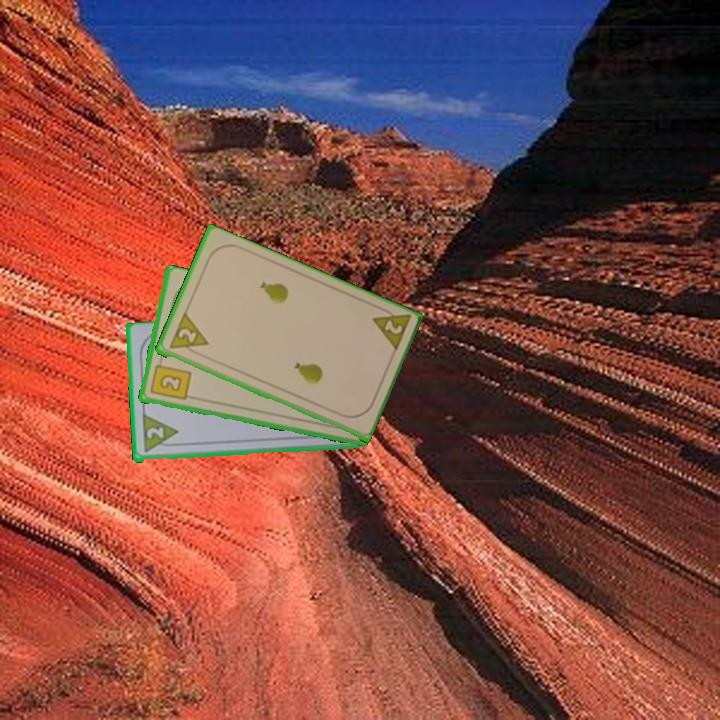2b: (146, 356, 193, 403)
2p: (368, 302, 413, 356), (165, 311, 211, 358), (143, 424, 166, 442)
